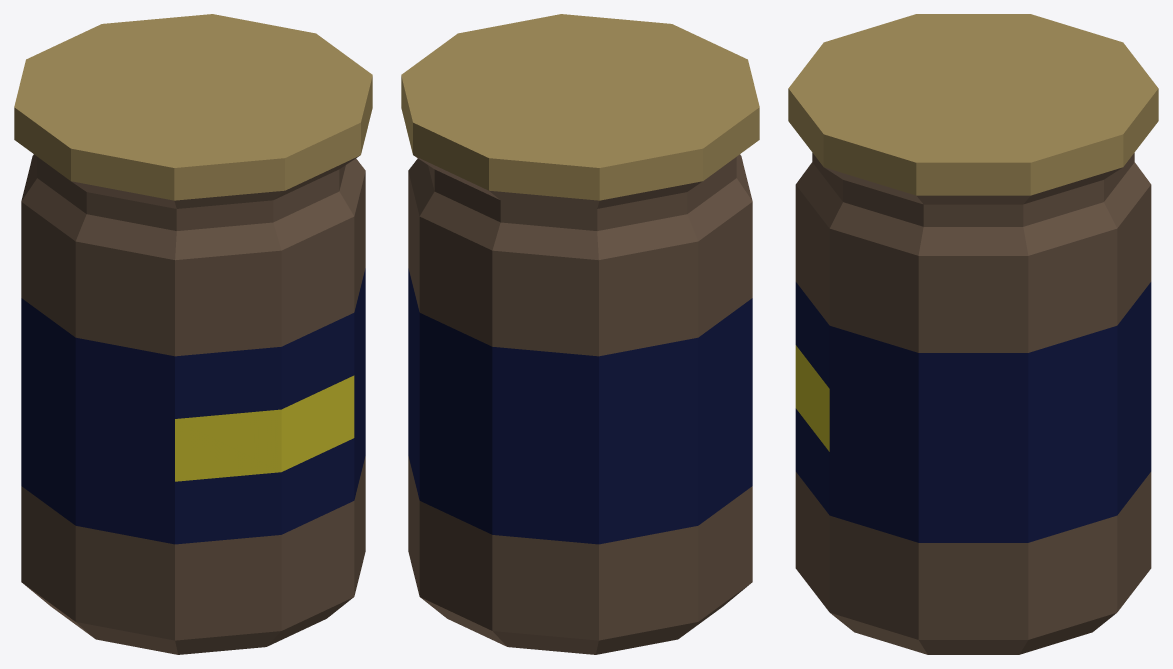
File: Liver-Sauce.fbx
3 views of the same model, side by side, from view 1: azimuth 30°, elevation 25°; view 2: azimuth 150°, elevation 25°; view 3: azimuth 270°, elevation 25° (orthographic).
Visible parts, largest first — view 1: Liver Sauce; view 2: Liver Sauce; view 3: Liver Sauce.
Boxes of the visible parts, x1,y1,x2,y2 form: Liver Sauce: (14, 14, 372, 654); Liver Sauce: (401, 14, 759, 654); Liver Sauce: (788, 14, 1158, 654).
Bounding box in the file's own units: 27.55 × 43.81 × 28.97.
